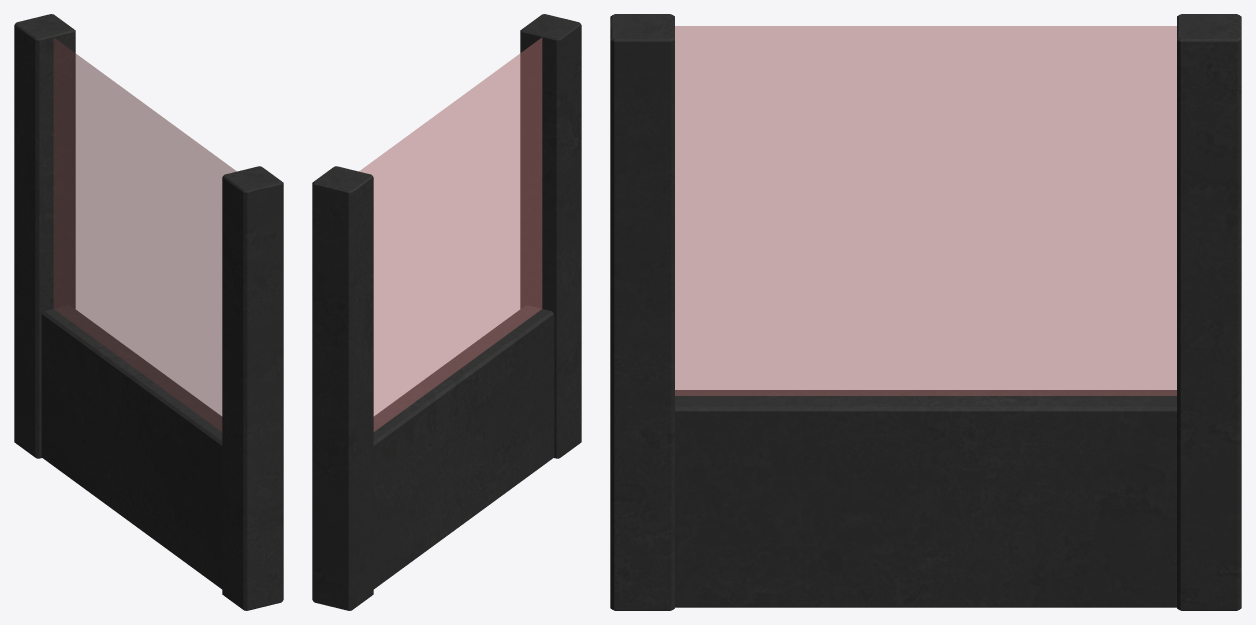
File: Wall_4x4_Glas.fbx
3 renders of one model, left to right at view 1: azimuth 30°, elevation 25°; view 2: azimuth 150°, elevation 25°; view 3: azimuth 270°, elevation 25°, orthographic. The views are drawn at different scales.
Parts seen in each view (by area): view 1: SM_Basic_Wall_4x139; view 2: SM_Basic_Wall_4x139; view 3: SM_Basic_Wall_4x139.
Boxes of the visible parts, x1=… form: SM_Basic_Wall_4x139: x1=14, y1=14, x2=283, y2=610; SM_Basic_Wall_4x139: x1=312, y1=14, x2=581, y2=610; SM_Basic_Wall_4x139: x1=610, y1=14, x2=1241, y2=610.
Size of the model in its own units: 400 by 4000 by 4000.
2 materials, 1 textured.
